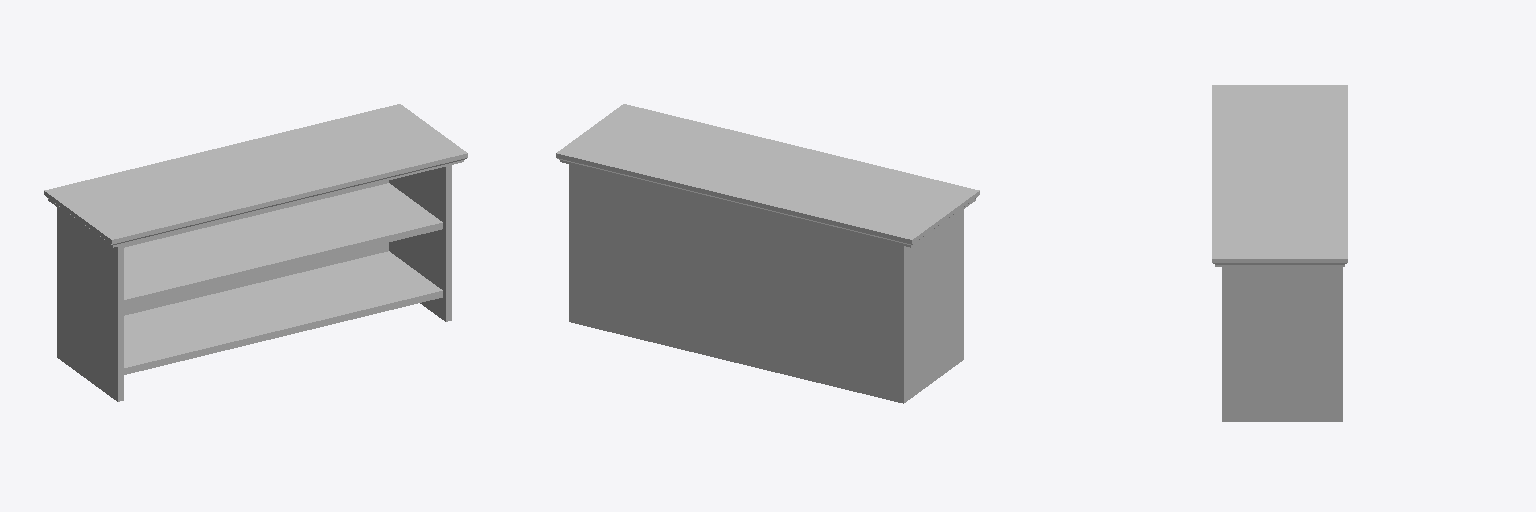
File: tv_table_1_2.obj
3 renders of one model, left to right at view 1: azimuth 30°, elevation 25°; view 2: azimuth 150°, elevation 25°; view 3: azimuth 270°, elevation 25°, orthographic.
Visible parts, largest first — view 1: tv_table_1_2; view 2: tv_table_1_2; view 3: tv_table_1_2.
Part boxes in pixels (x1,y1,x2,y2): tv_table_1_2: (44, 104, 467, 401); tv_table_1_2: (556, 104, 979, 403); tv_table_1_2: (1212, 85, 1347, 421).
Size of the model in its own units: 1.64 by 0.74 by 0.54.